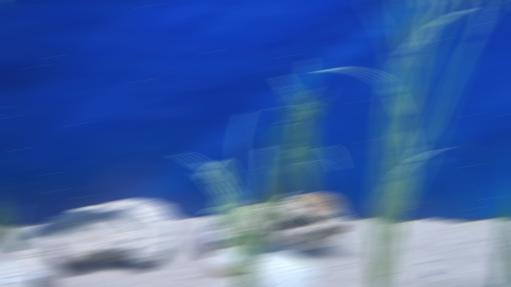Fish: (25, 204, 136, 238), (0, 257, 36, 286)
